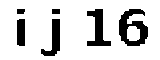1: (84, 3, 116, 49)
6: (118, 6, 150, 49)
i: (10, 6, 33, 49)
j: (34, 5, 65, 60)
